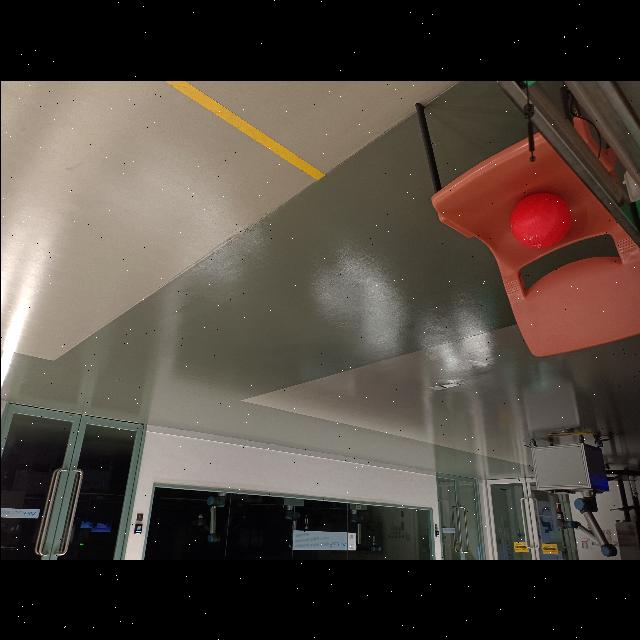R: (510, 192, 570, 248)
